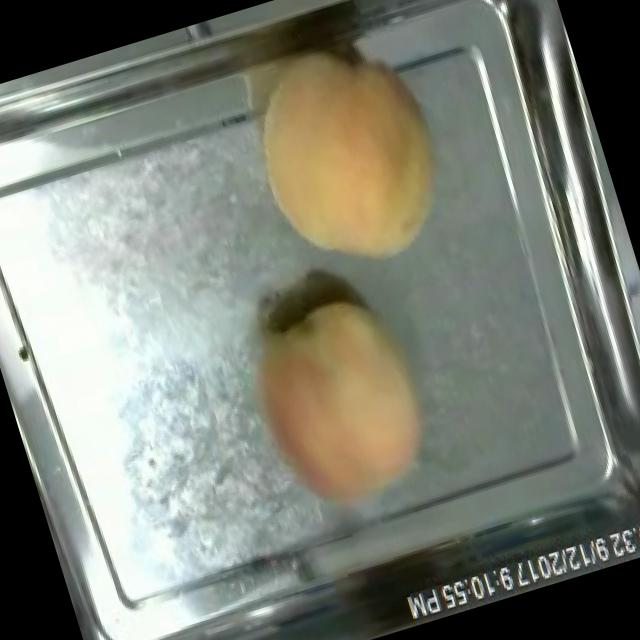Fruit: (225, 22, 471, 295), (225, 274, 458, 534)
